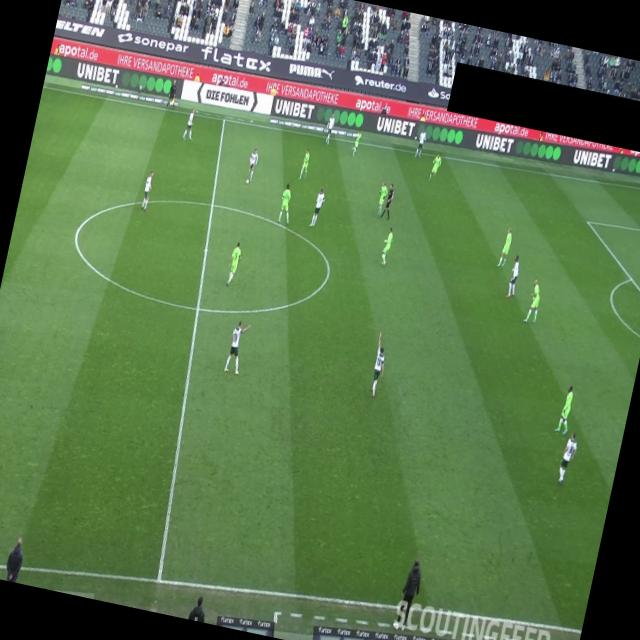ball: (244, 177, 250, 186)
player: (366, 332, 391, 398), (223, 319, 251, 375), (555, 429, 580, 486), (554, 383, 576, 435), (522, 276, 544, 324), (224, 240, 244, 288), (276, 182, 296, 226), (505, 254, 523, 298), (308, 186, 326, 228), (496, 226, 514, 268), (378, 226, 395, 268), (139, 169, 155, 212), (243, 146, 260, 184), (374, 180, 389, 218), (182, 106, 198, 141), (427, 150, 443, 183), (322, 110, 336, 144), (414, 126, 428, 160), (298, 147, 312, 181), (350, 129, 362, 157)
referee: (379, 182, 396, 220), (166, 78, 180, 108)
